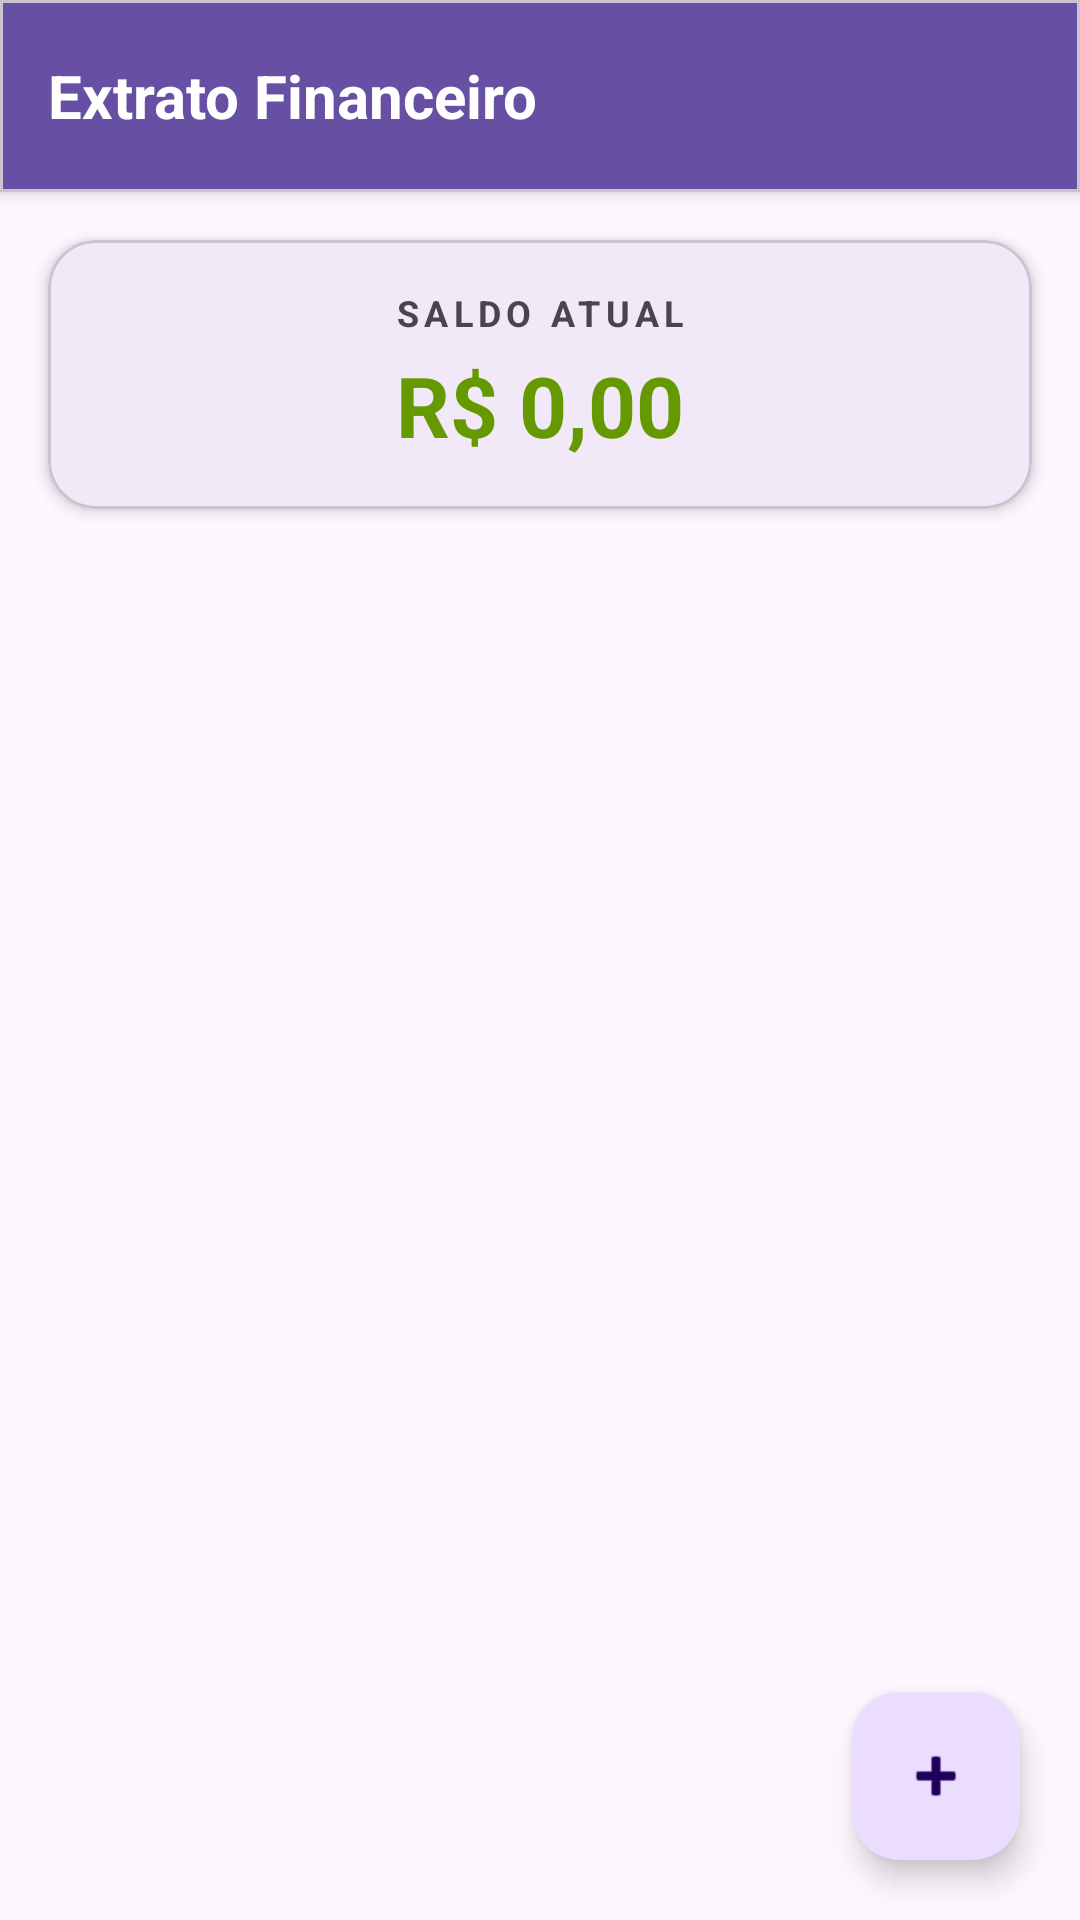

Icons on this 1080px x 1920px Android screen, each with the point to tap as [x,y]:
Novo Lançamento: [936,1776]
